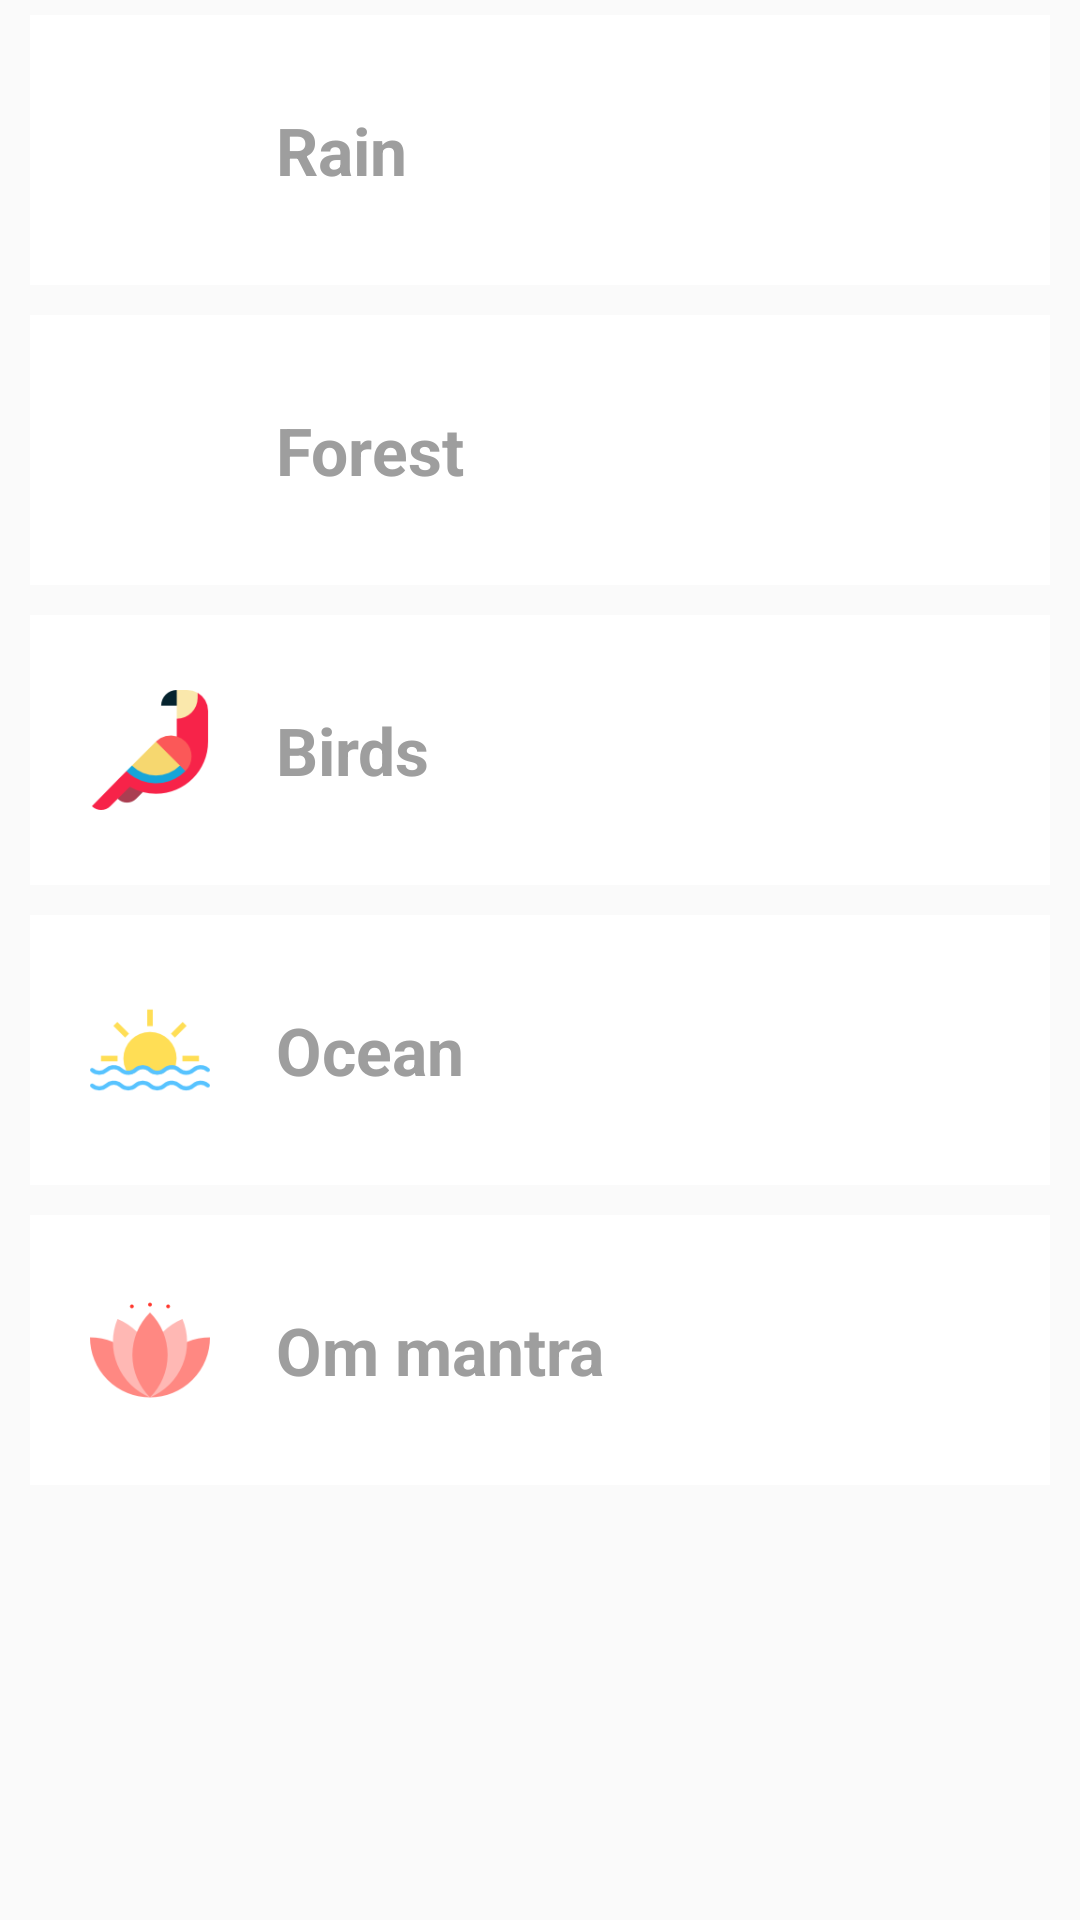

Icon bounding boxes for this 1080x1920 phone screenshot, format (x1, y1, x2, y2):
parrot: (92, 690, 208, 810)
